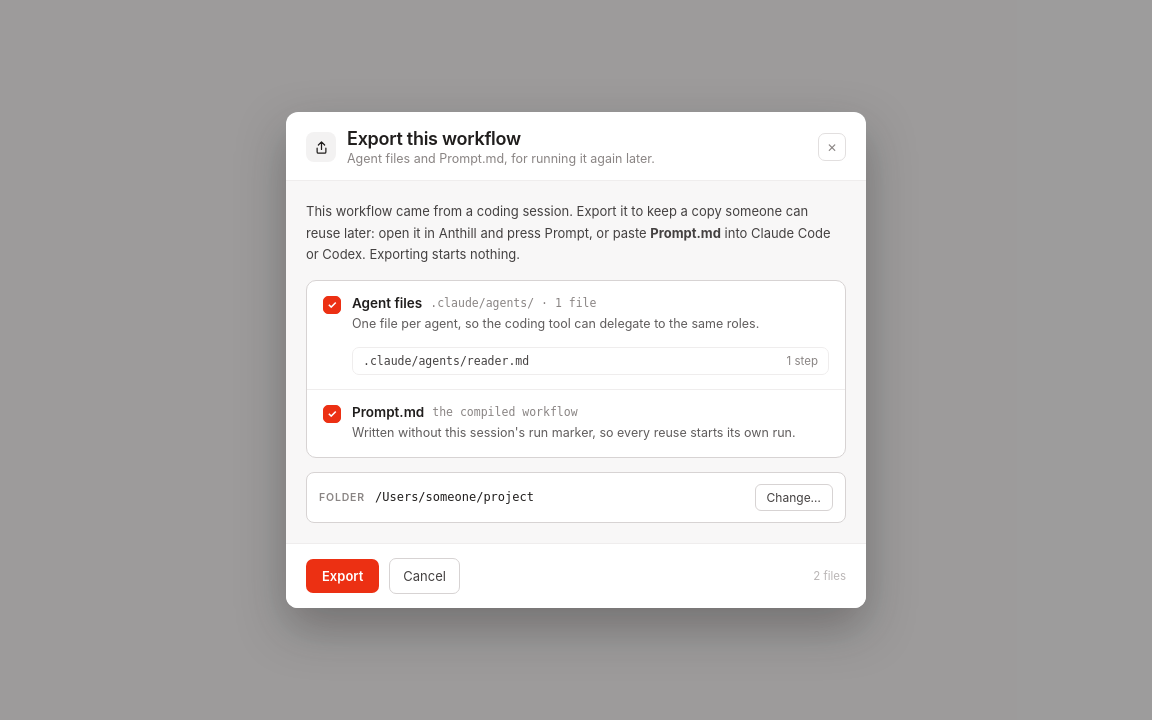
Test: says what went wrong when the write fails, and stays open to try again
The image size is (1152, 720).
What coordinates should you click on to do the following:
click the button "Export"
I would click on:
 (343, 576)
Its box is [306,558,379,592].
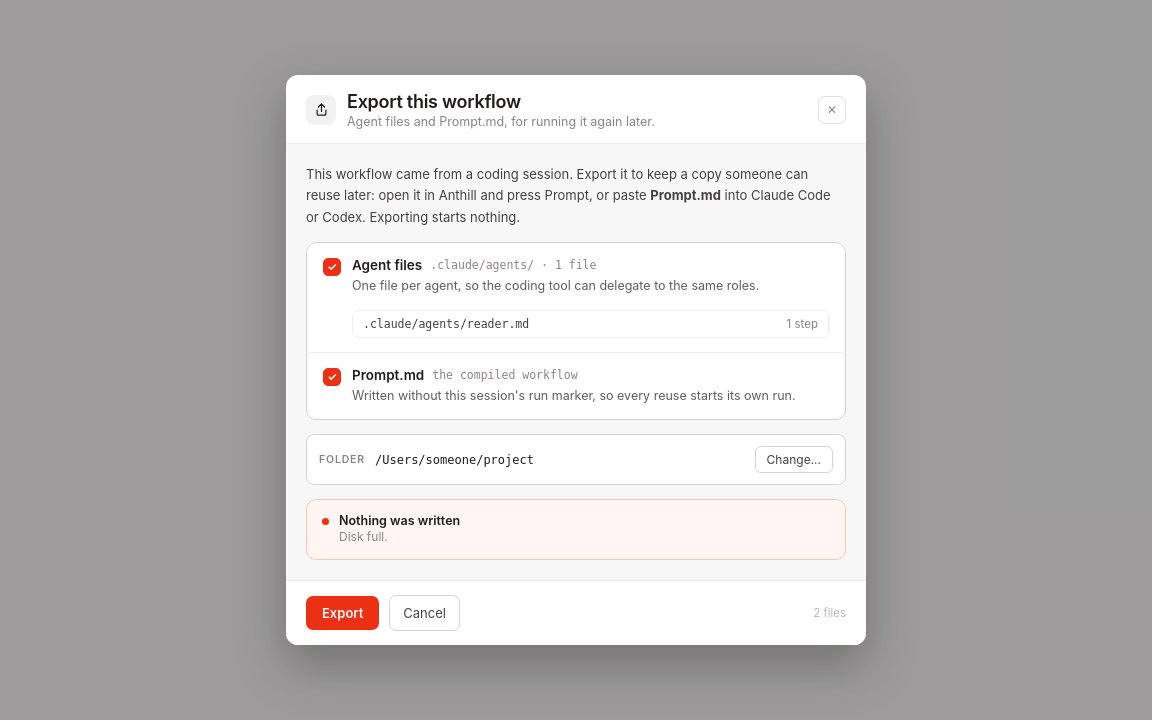
Expected: the heading "Export this workflow" is shown, [347,91,521,112]
Expected: the message shows "Disk full.", [339,529,388,544]
Expected: the text "Nothing was written" is shown, [339,513,460,528]
